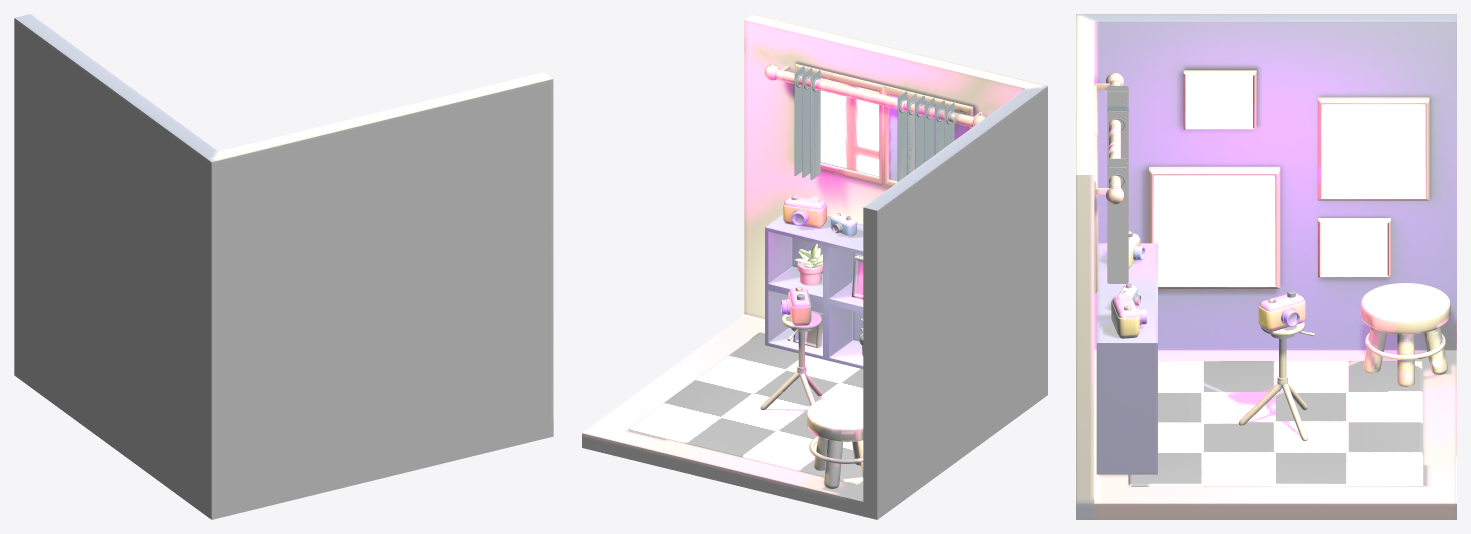
The model's file is photoroom.gltf.
3 renders of one model, left to right at view 1: azimuth 30°, elevation 25°; view 2: azimuth 150°, elevation 25°; view 3: azimuth 270°, elevation 25°, orthographic. The views are drawn at different scales.
Parts seen in each view (by area): view 1: room'.1; view 2: room'.1, Cube, Torus.1, Cube.1 (×3), Cube.14 (×2), Cube.12 (×2), Cube.11 (×2), Cube.9 (×2), Cylinder.3, Cube.7 (×2), frame, plants1.1 (+2 smaller); view 3: room'.1, frame, Cube, Cube.1 (×3), Torus.1, Cube.11, Cylinder.3, Cube.9.
Part boxes in pixels (<box>): room'.1: <box>14,14,553,519</box>; room'.1: <box>582,14,1047,519</box>; Cube: <box>629,332,863,484</box>; Torus.1: <box>764,64,986,488</box>; Cube.1 (×3): <box>765,195,863,368</box>; Cube.14 (×2): <box>810,70,820,179</box>; Cube.12 (×2): <box>802,68,812,177</box>; Cube.11 (×2): <box>794,66,804,176</box>; Cube.9 (×2): <box>897,91,907,181</box>; Cylinder.3: <box>760,311,822,409</box>; Cube.7 (×2): <box>915,96,924,169</box>; frame: <box>793,255,863,348</box>; plants1.1: <box>794,243,822,285</box>; room'.1: <box>1076,14,1456,519</box>; frame: <box>1149,70,1429,288</box>; Cube: <box>1128,361,1423,486</box>; Cube.1 (×3): <box>1096,243,1305,474</box>; Torus.1: <box>1094,72,1450,386</box>; Cube.11: <box>1107,167,1128,283</box>; Cylinder.3: <box>1238,322,1314,440</box>; Cube.9: <box>1107,111,1128,159</box>.
Size of the model in its own units: 10.5 by 10.5 by 10.5.
